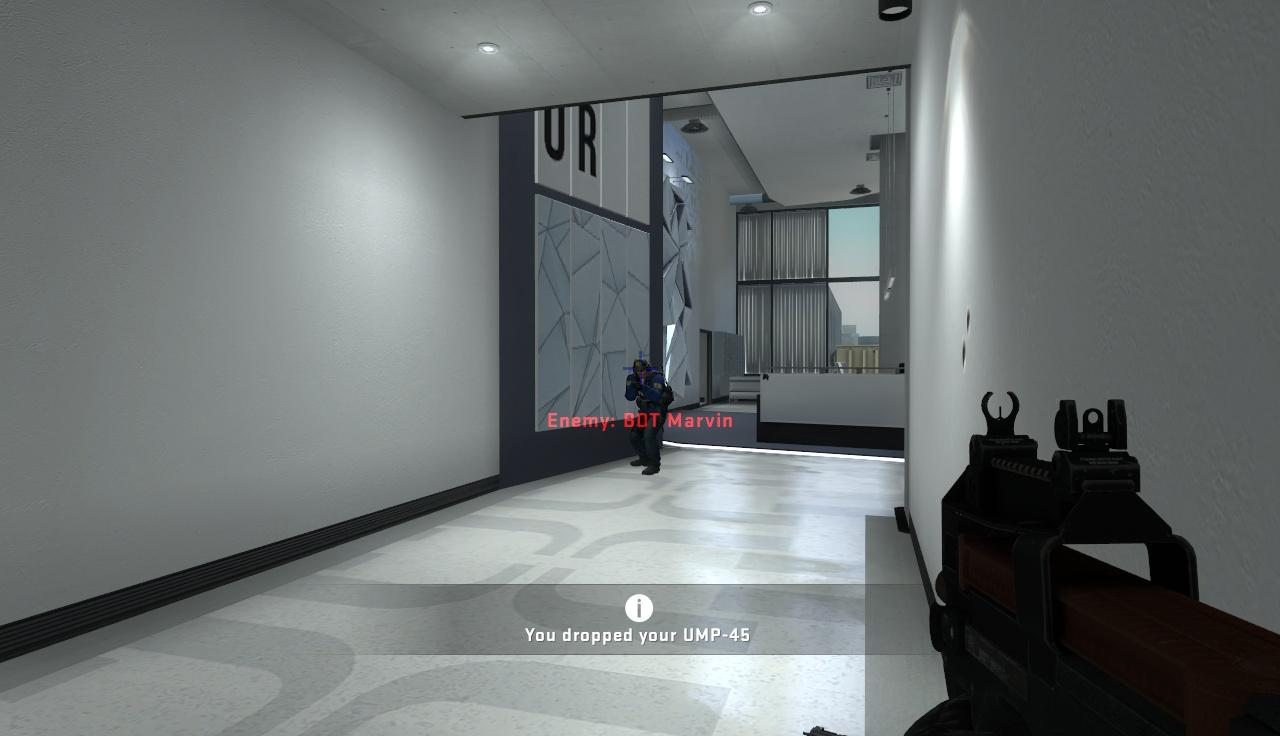ct: (626, 359, 664, 476)
cthead: (632, 360, 651, 379)
rifle: (927, 386, 1280, 736)
